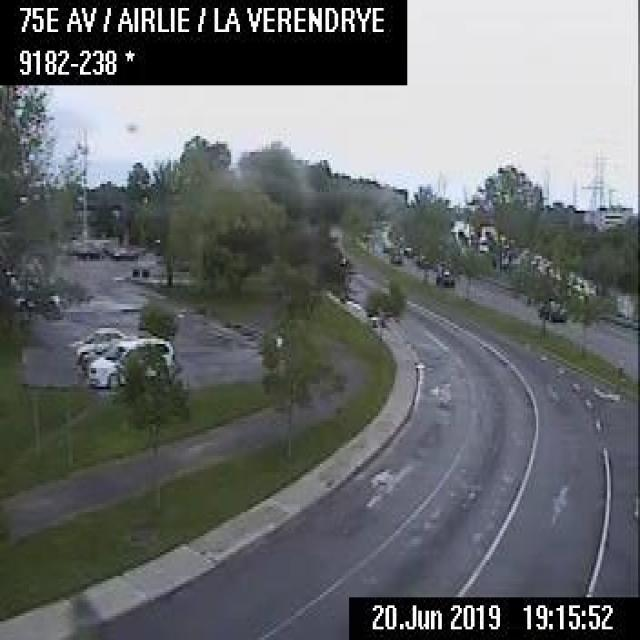vehicle: (86, 335, 173, 388), (70, 325, 138, 343), (535, 295, 566, 320), (74, 240, 105, 260), (433, 264, 453, 289), (110, 242, 139, 258), (388, 248, 400, 264), (403, 244, 416, 257), (380, 238, 392, 251)
